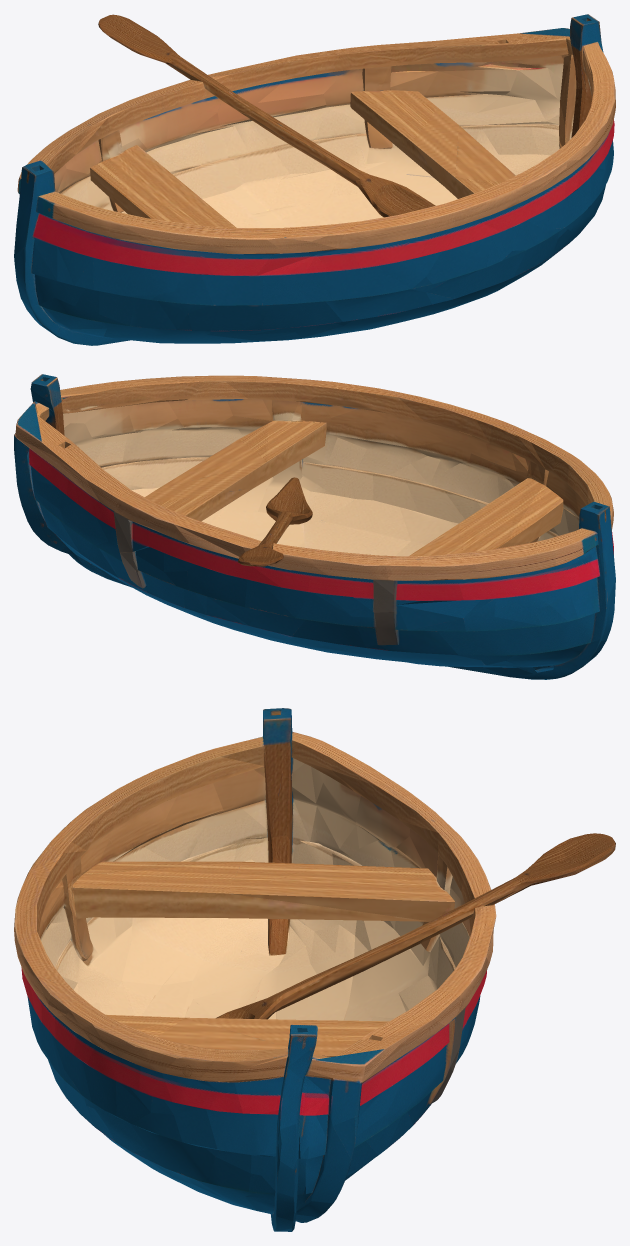
Rendered from rowboat.glb.
3 renders of one model, top to bottom at view 1: azimuth 30°, elevation 25°; view 2: azimuth 150°, elevation 25°; view 3: azimuth 270°, elevation 25°, orthographic. The views are drawn at different scales.
Bounding box in the file's own units: 1.9 × 0.627 × 1.42.
Materials: 1 (1 with a texture image).
